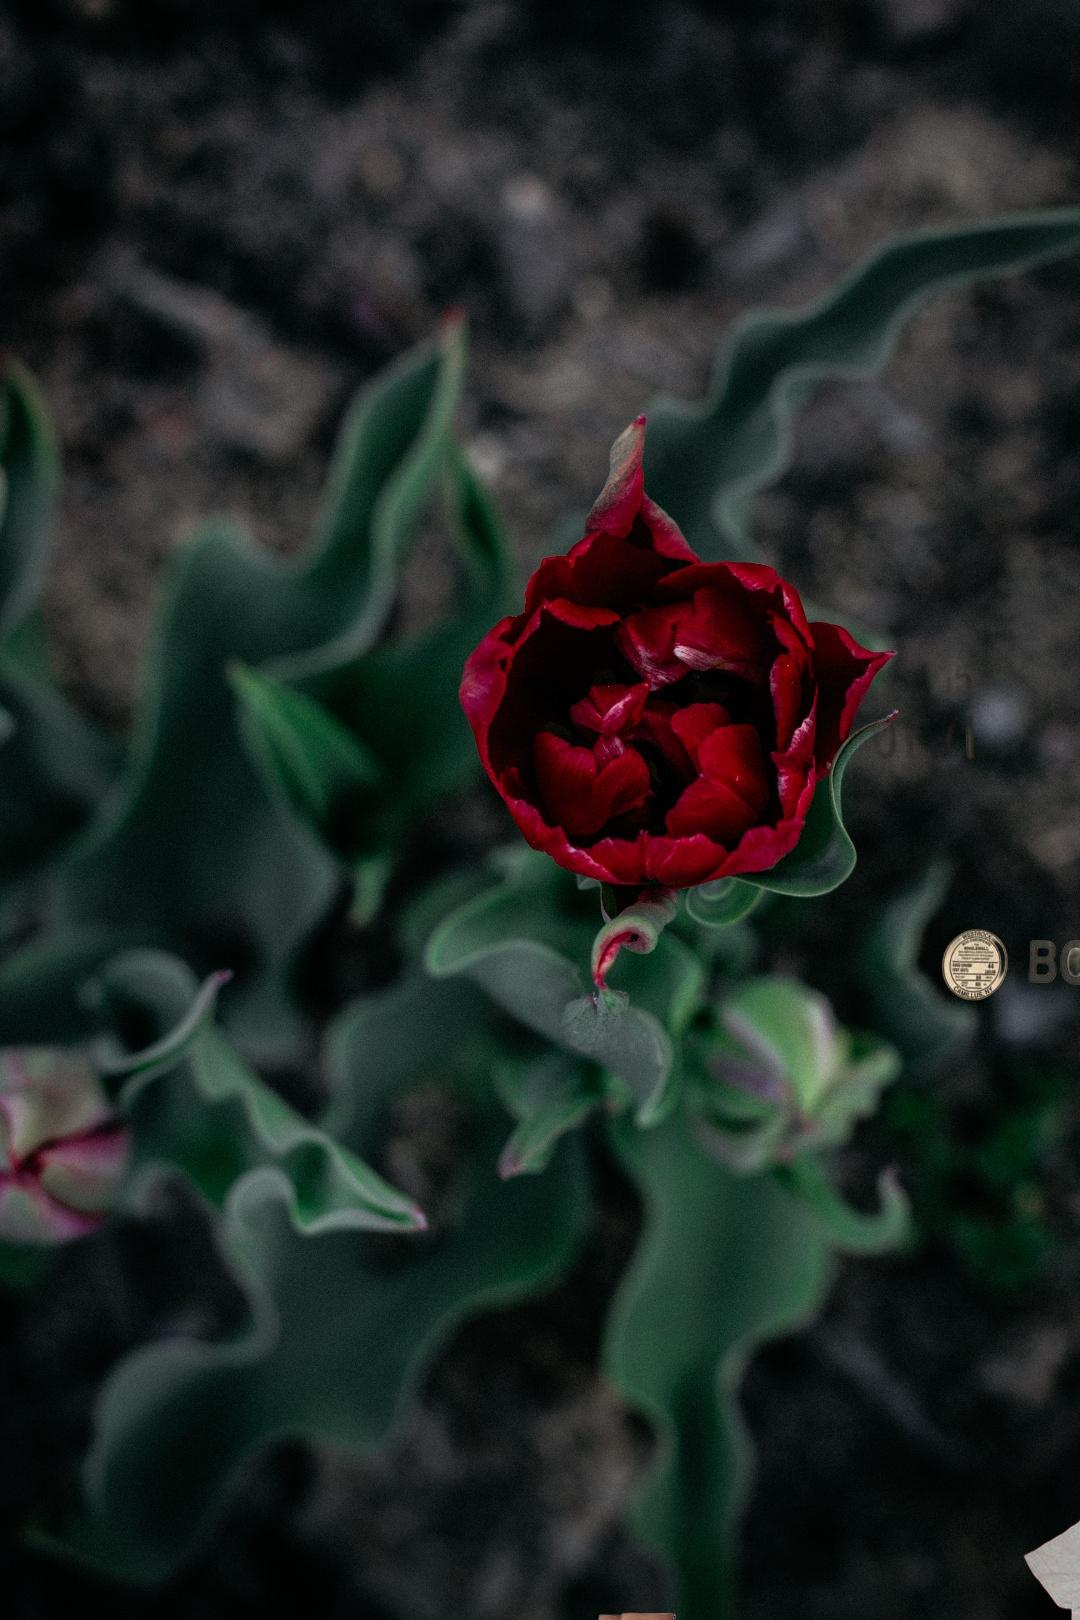clothes: (1020, 1479, 1080, 1620)
metal-cans: (262, 1593, 773, 1620)
shoes: (534, 1610, 679, 1620)
trashbox-cardboard: (822, 629, 1080, 1004)
